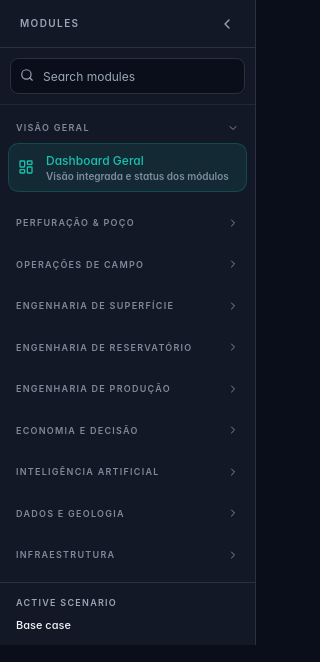
Test case: Sidebar navigation groups › shows matches from collapsed groups while searching
The image size is (320, 662).
In the field with placeholder "Search modules": (128, 76) [10,58,245,94], type "PVT"
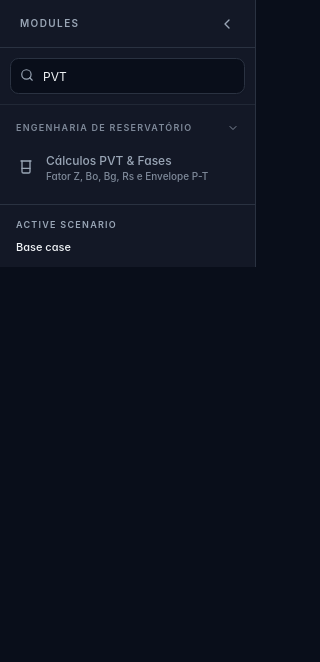
expect the button "Cálculos PVT & Fases" is shown: met, box [8,142,247,192]
